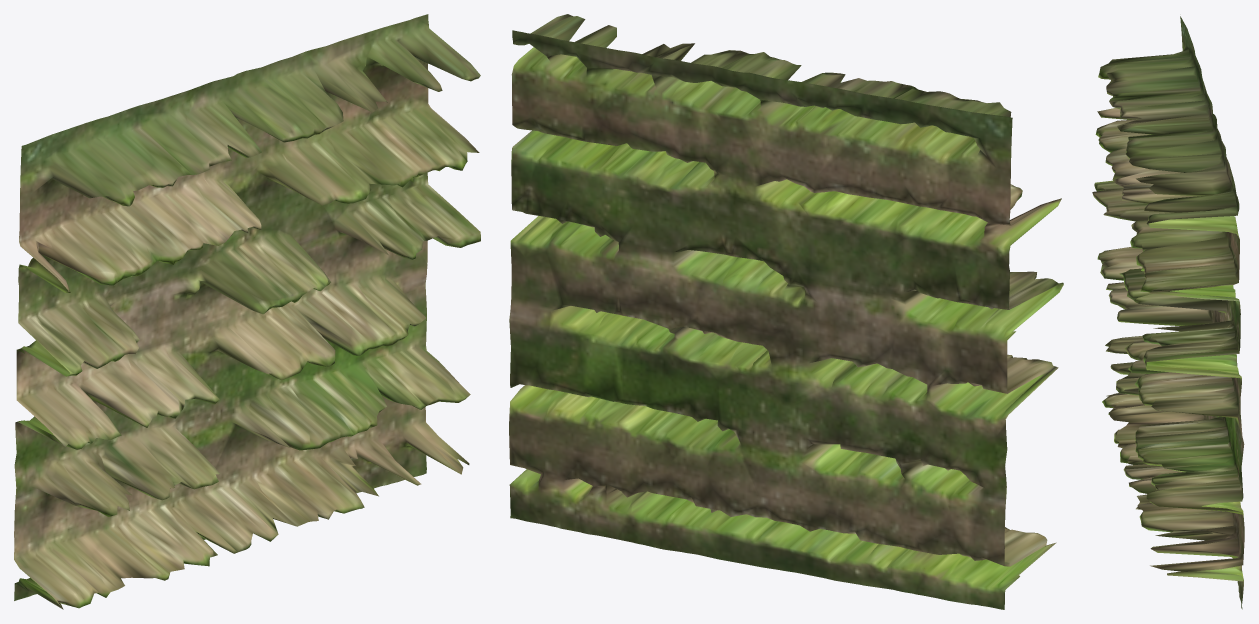
The model's file is map_230_60.obj.
3 renders of one model, left to right at view 1: azimuth 30°, elevation 25°; view 2: azimuth 150°, elevation 25°; view 3: azimuth 270°, elevation 25°, orthographic. The views are drawn at different scales.
Bounding box in the file's own units: 10 × 10 × 3.4.
Materials: 1 (1 with a texture image).
